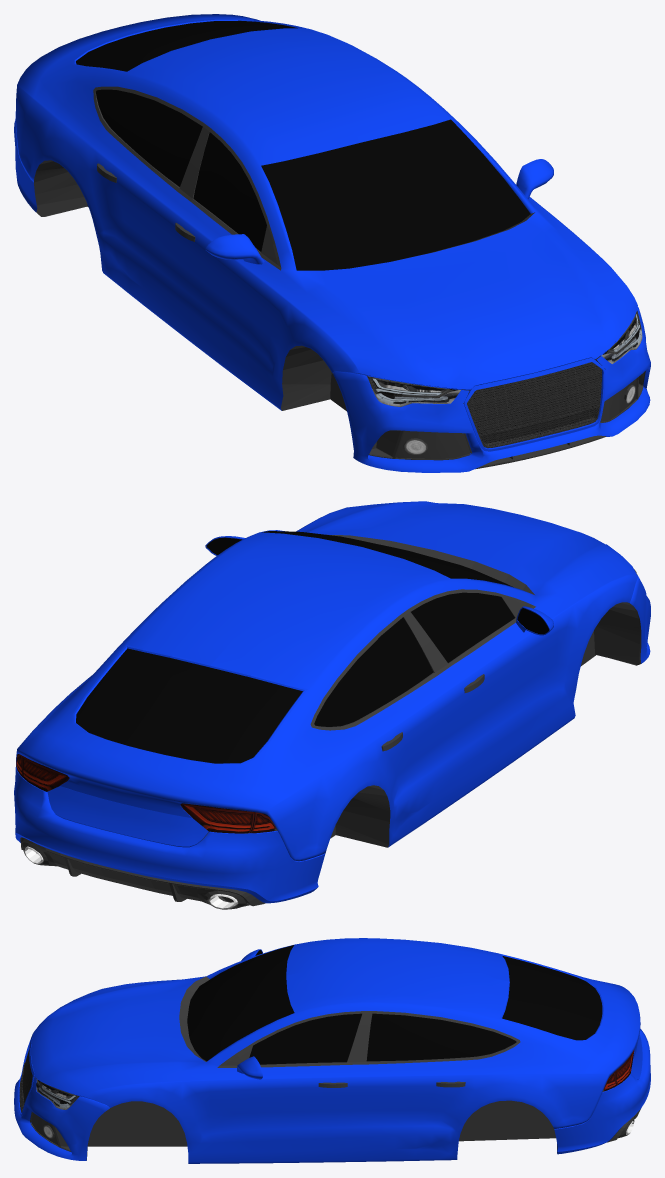
The model's file is Sedan_1.fbx.
3 views of the same model, one above another, from view 1: azimuth 30°, elevation 25°; view 2: azimuth 150°, elevation 25°; view 3: azimuth 270°, elevation 25° (orthographic). The views are drawn at different scales.
Parts seen in each view (by area): view 1: Sedan_1; view 2: Sedan_1; view 3: Sedan_1.
Part boxes in pixels (x1,y1,x2,y2): Sedan_1: [14, 14, 650, 472]; Sedan_1: [14, 501, 650, 909]; Sedan_1: [14, 938, 650, 1163].
Size of the model in its own units: 89.79 by 48.77 by 195.
4 materials, 2 textured.
